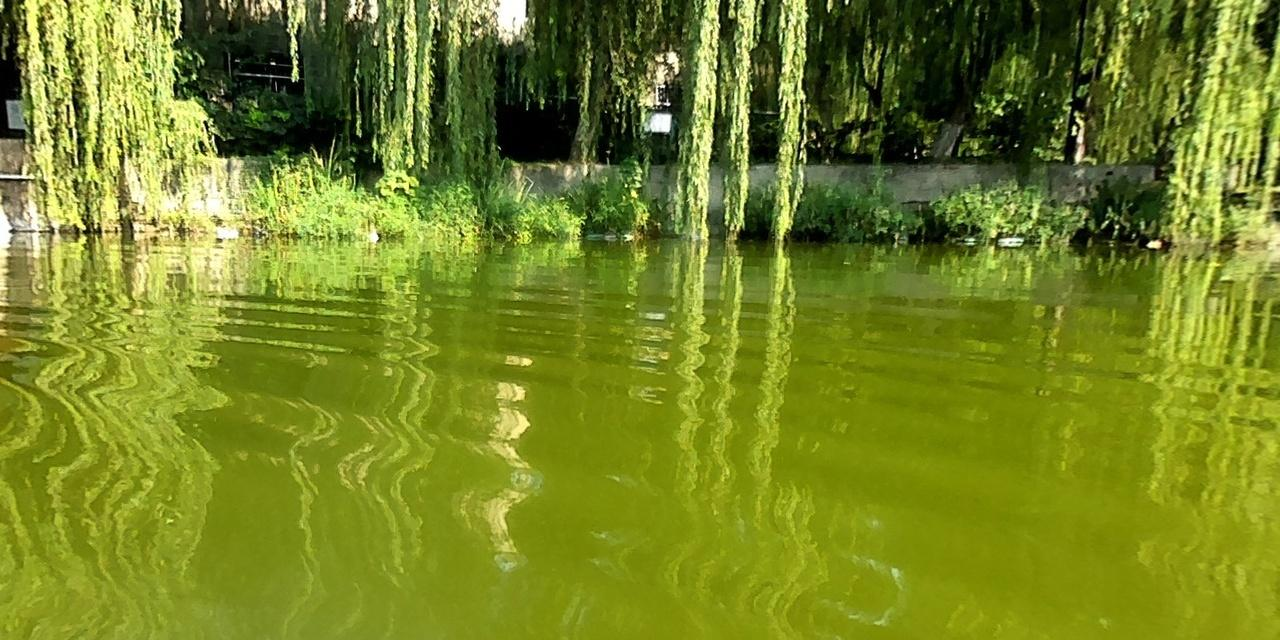bottle: (997, 236, 1022, 247)
